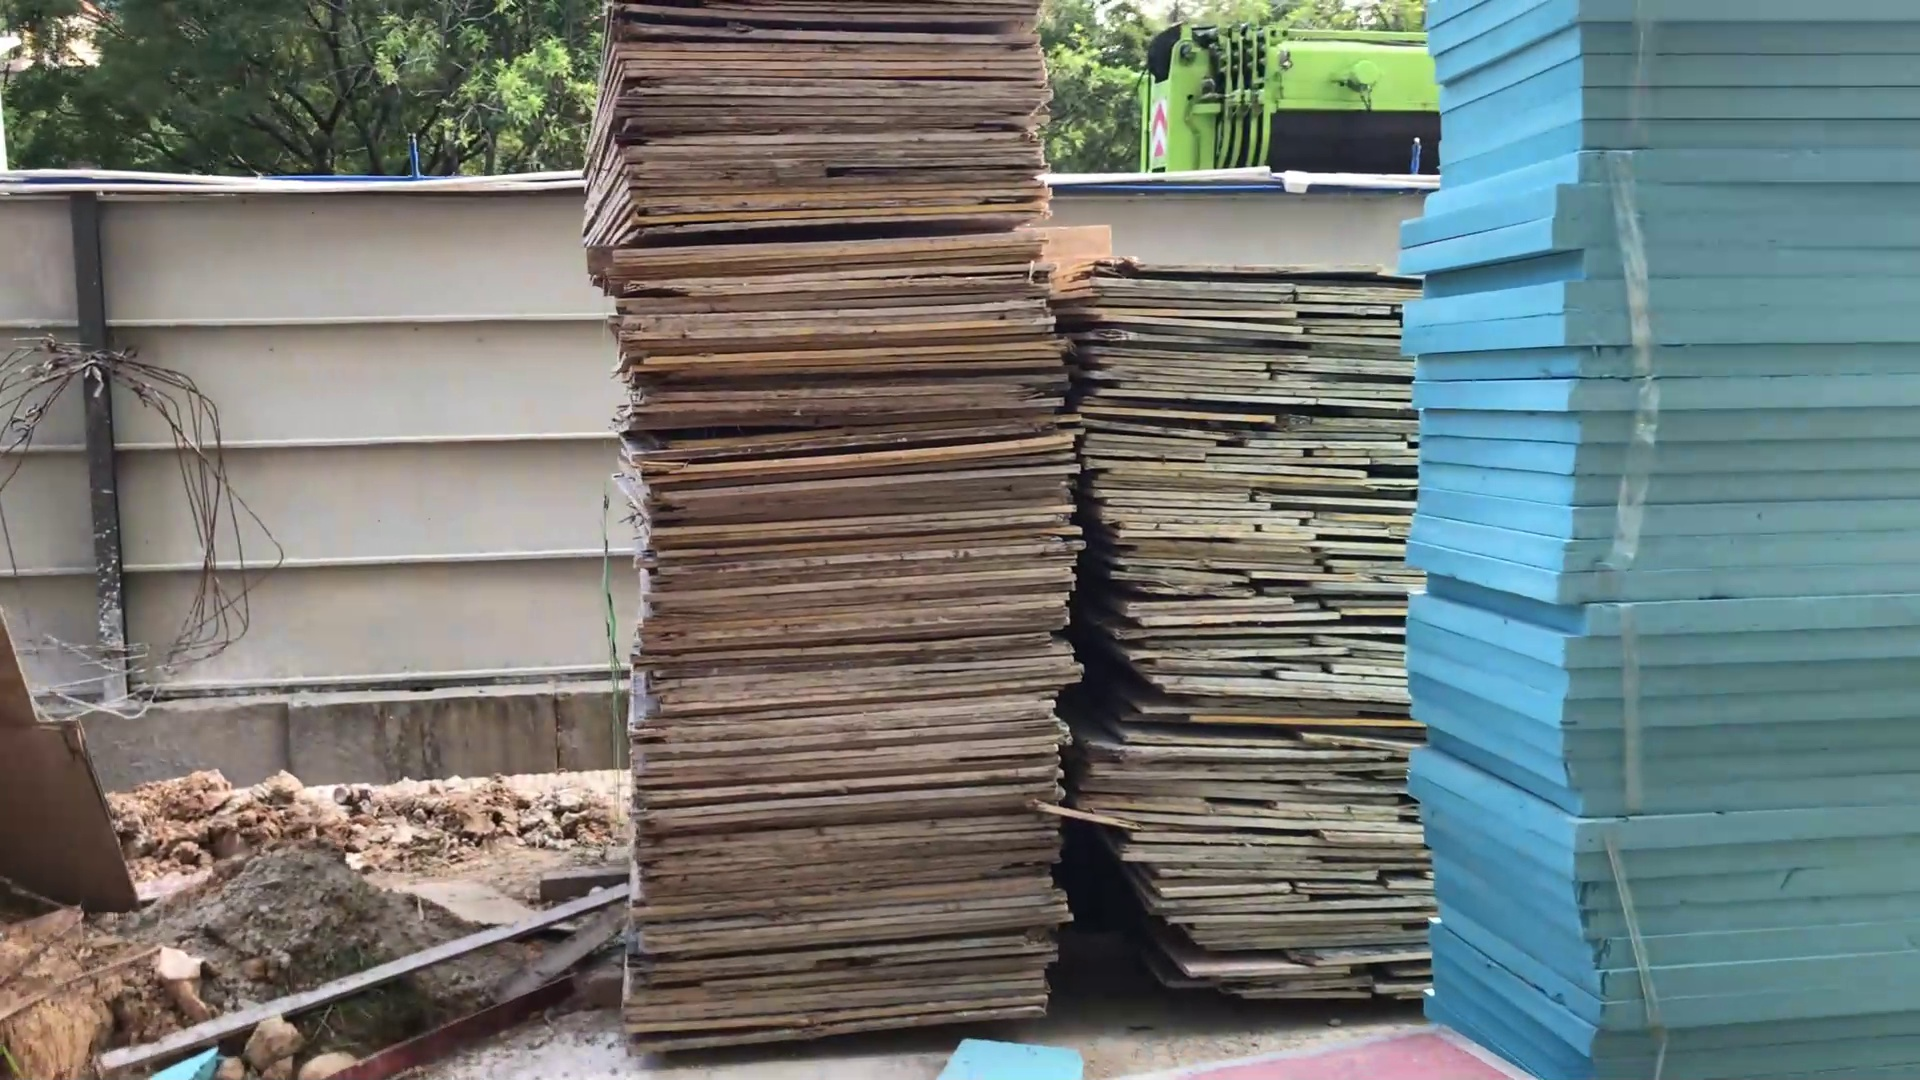board: (582, 1, 1083, 1054), (1067, 258, 1425, 1013)
